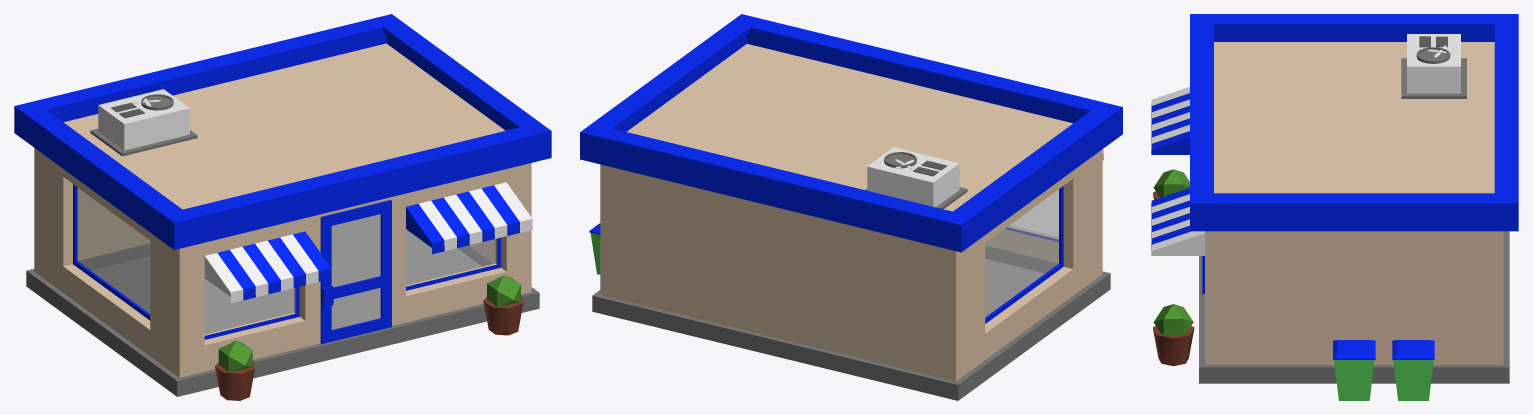
Rendered from small_store2.glb.
3 views of the same model, side by side, from view 1: azimuth 30°, elevation 25°; view 2: azimuth 150°, elevation 25°; view 3: azimuth 270°, elevation 25° (orthographic). The views are drawn at different scales.
Parts seen in each view (by area): view 1: 3DSMeshMatrix.018, 3DSMeshMatrix.031, 3DSMeshMatrix.029, 3DSMeshMatrix.026, 3DSMeshMatrix.023, 3DSMeshMatrix.005, 3DSMeshMatrix.008, 3DSMeshMatrix.025, 3DSMeshMatrix.024, 3DSMeshMatrix.030, 3DSMeshMatrix.006, 3DSMeshMatrix.013 (+12 smaller); view 2: 3DSMeshMatrix.018, 3DSMeshMatrix.029; view 3: 3DSMeshMatrix.018, 3DSMeshMatrix.029, 3DSMeshMatrix.017, 3DSMeshMatrix.021, 3DSMeshMatrix.023, 3DSMeshMatrix.015, 3DSMeshMatrix.024, 3DSMeshMatrix.022, 3DSMeshMatrix.016, 3DSMeshMatrix.030, 3DSMeshMatrix.025, 3DSMeshMatrix.006 (+1 smaller).
Part boxes in pixels (<box>): 3DSMeshMatrix.018: <box>14,14,551,396</box>; 3DSMeshMatrix.031: <box>320,200,391,343</box>; 3DSMeshMatrix.029: <box>98,89,189,150</box>; 3DSMeshMatrix.026: <box>215,361,254,400</box>; 3DSMeshMatrix.023: <box>483,295,523,335</box>; 3DSMeshMatrix.005: <box>204,253,243,303</box>; 3DSMeshMatrix.008: <box>406,203,444,254</box>; 3DSMeshMatrix.025: <box>218,340,252,371</box>; 3DSMeshMatrix.024: <box>487,275,520,306</box>; 3DSMeshMatrix.030: <box>90,128,197,156</box>; 3DSMeshMatrix.006: <box>293,231,331,281</box>; 3DSMeshMatrix.013: <box>469,188,507,238</box>; 3DSMeshMatrix.018: <box>580,14,1122,400</box>; 3DSMeshMatrix.029: <box>867,147,959,207</box>; 3DSMeshMatrix.018: <box>1190,14,1518,383</box>; 3DSMeshMatrix.029: <box>1407,34,1460,93</box>; 3DSMeshMatrix.017: <box>1393,360,1433,400</box>; 3DSMeshMatrix.021: <box>1334,360,1374,400</box>; 3DSMeshMatrix.023: <box>1152,326,1194,366</box>; 3DSMeshMatrix.015: <box>1151,231,1204,255</box>; 3DSMeshMatrix.024: <box>1153,304,1193,335</box>; 3DSMeshMatrix.022: <box>1333,340,1375,359</box>; 3DSMeshMatrix.016: <box>1392,340,1434,359</box>; 3DSMeshMatrix.030: <box>1401,58,1466,98</box>; 3DSMeshMatrix.025: <box>1153,169,1189,197</box>; 3DSMeshMatrix.006: <box>1151,131,1189,154</box>.
Bounding box in the file's own units: 81.32 × 35.99 × 61.46.
